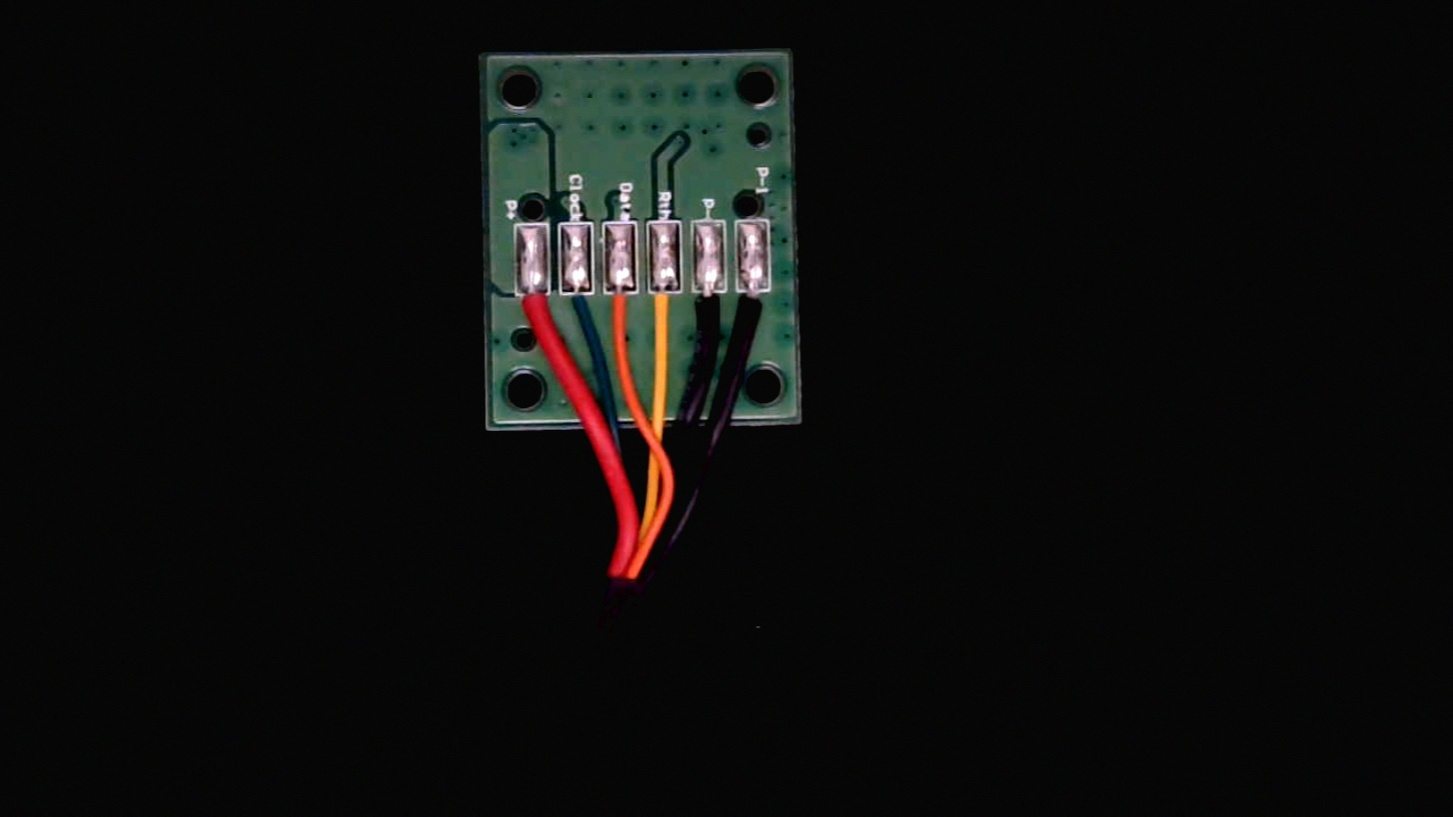Black: (699, 275, 732, 348)
Black1: (745, 276, 777, 350)
Green: (564, 270, 600, 346)
Orange: (610, 274, 644, 349)
Red: (520, 272, 554, 346)
Yellow: (656, 273, 686, 353)
